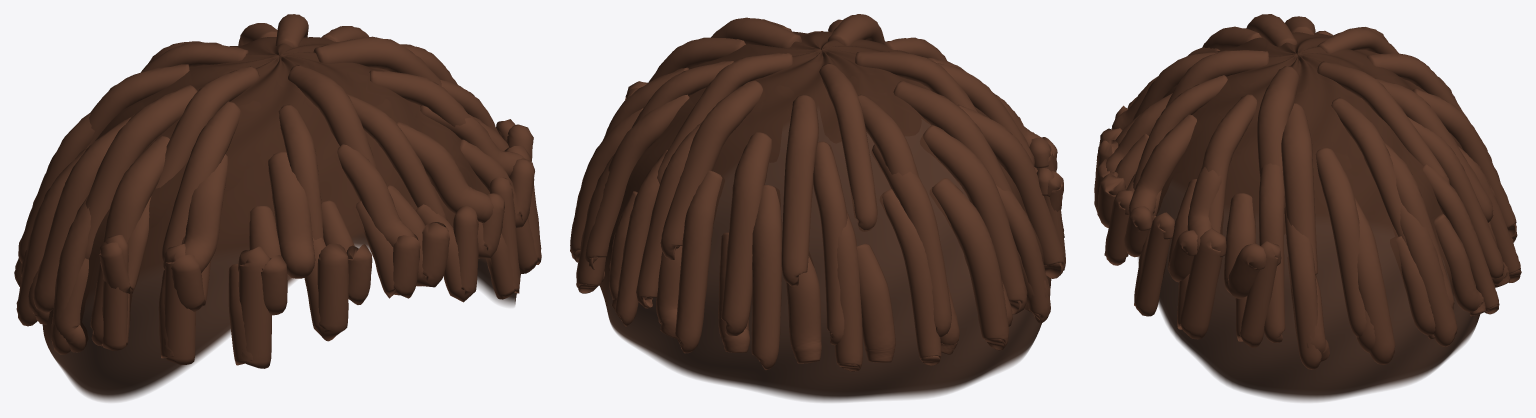
Rendered from Masculine-locs-hair.glb.
The picture shows the model from 3 angles, left to right: view 1: azimuth 30°, elevation 25°; view 2: azimuth 150°, elevation 25°; view 3: azimuth 270°, elevation 25°; orthographic projection. The views are drawn at different scales.
Parts seen in each view (by area): view 1: 226 hair / Hair / loc fiber235, 226 hair / Hair / neutral coverage235; view 2: 226 hair / Hair / loc fiber235, 226 hair / Hair / neutral coverage235; view 3: 226 hair / Hair / loc fiber235, 226 hair / Hair / neutral coverage235.
Boxes of the visible parts, <box> form: 226 hair / Hair / loc fiber235: <box>14,14,541,368</box>; 226 hair / Hair / neutral coverage235: <box>42,37,520,401</box>; 226 hair / Hair / loc fiber235: <box>570,14,1065,371</box>; 226 hair / Hair / neutral coverage235: <box>600,31,1051,401</box>; 226 hair / Hair / loc fiber235: <box>1094,14,1521,369</box>; 226 hair / Hair / neutral coverage235: <box>1138,32,1480,401</box>.
Bounding box in the file's own units: 1.1 × 0.6638 × 0.9674.
